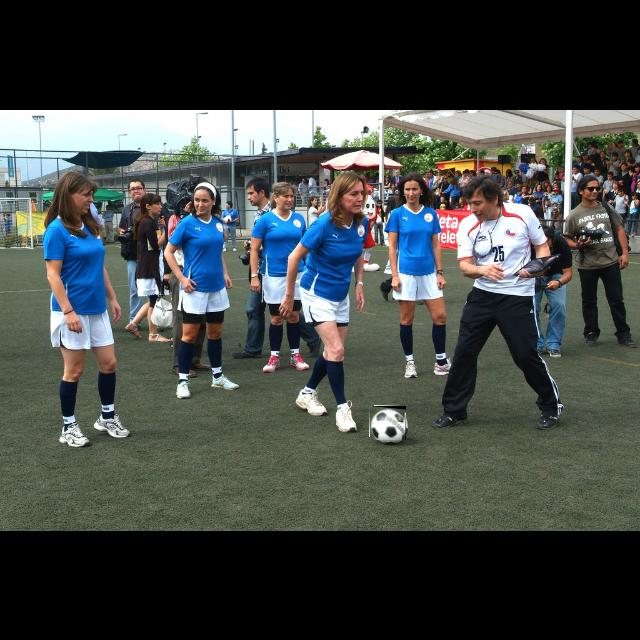Football: (370, 406, 406, 440)
